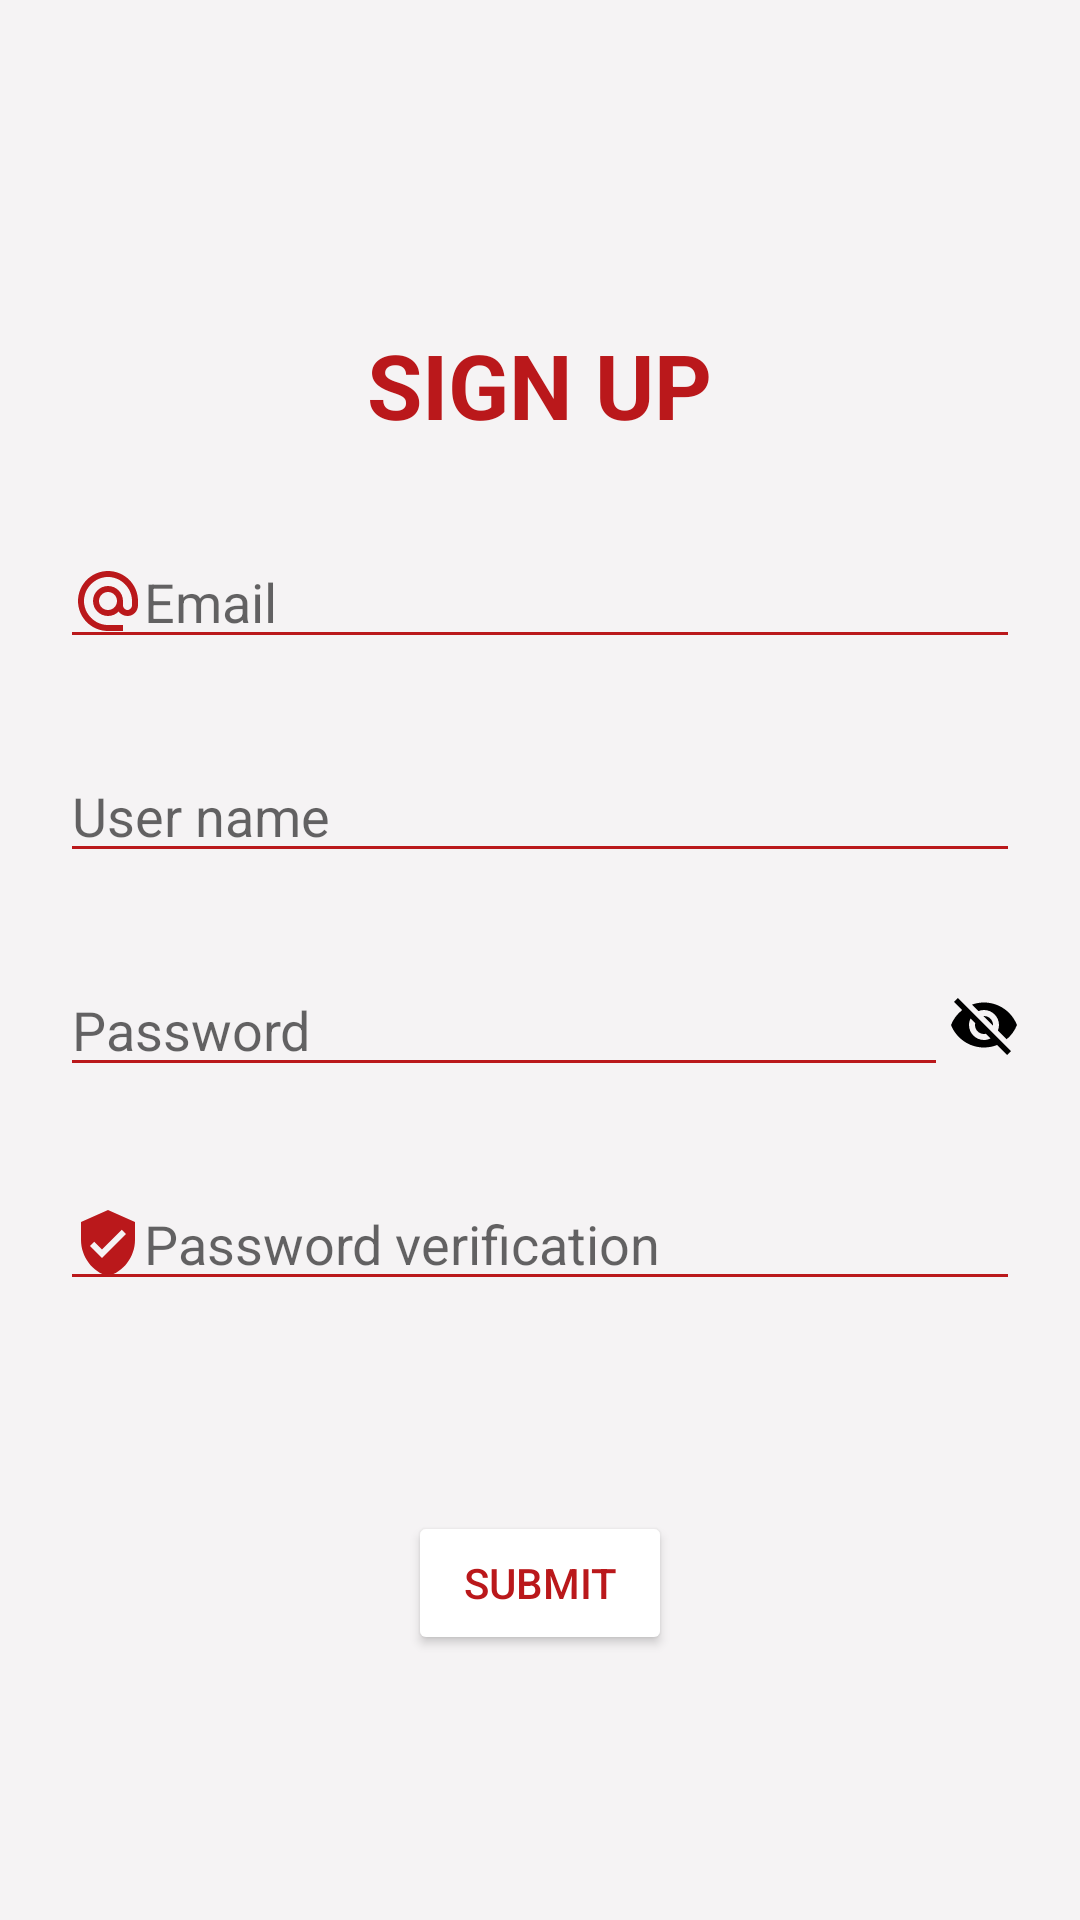

Where icons sit on this 1080 x 1920 app screen, as (x1, y1, x2, y2):
invisible: (951, 998, 1017, 1055)
